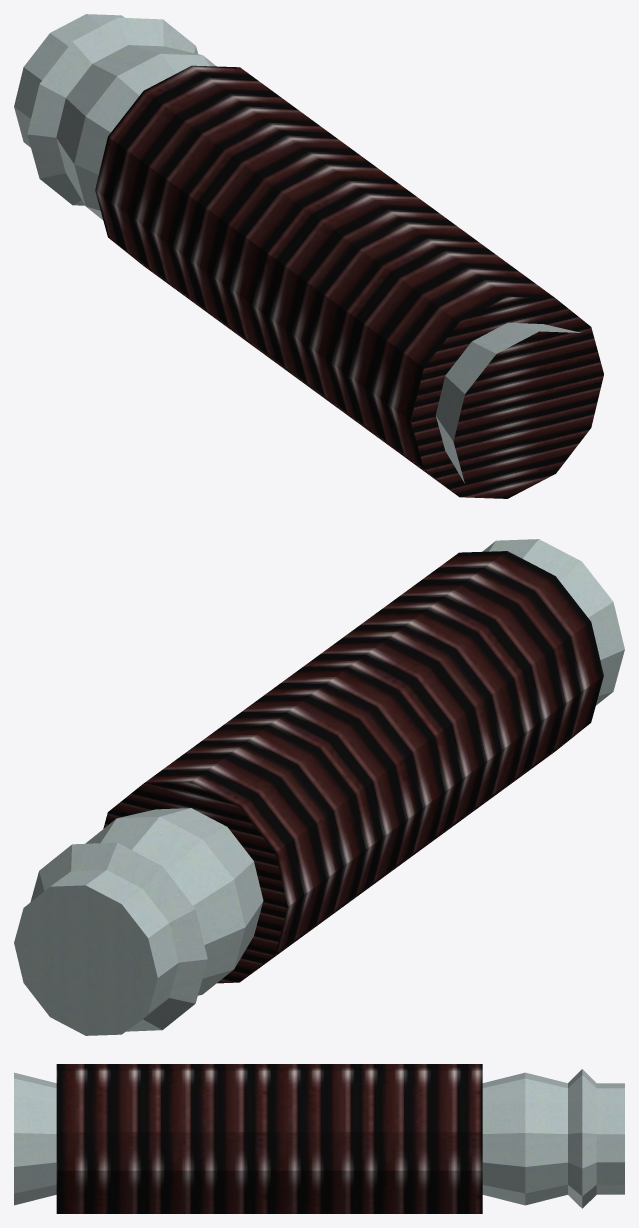
Rendered from juz003-geode.glb.
3 views of the same model, one above another, from view 1: azimuth 30°, elevation 25°; view 2: azimuth 150°, elevation 25°; view 3: azimuth 270°, elevation 25° (orthographic). The views are drawn at different scales.
Parts seen in each view (by area): view 1: Node; view 2: Node; view 3: Node.
Boxes of the visible parts, x1,y1,x2,y2 form: Node: [14, 14, 603, 498]; Node: [14, 539, 624, 1035]; Node: [14, 1064, 624, 1213].
Size of the model in its own units: 0.2637 by 0.2637 by 1.07.
2 materials, 2 textured.
